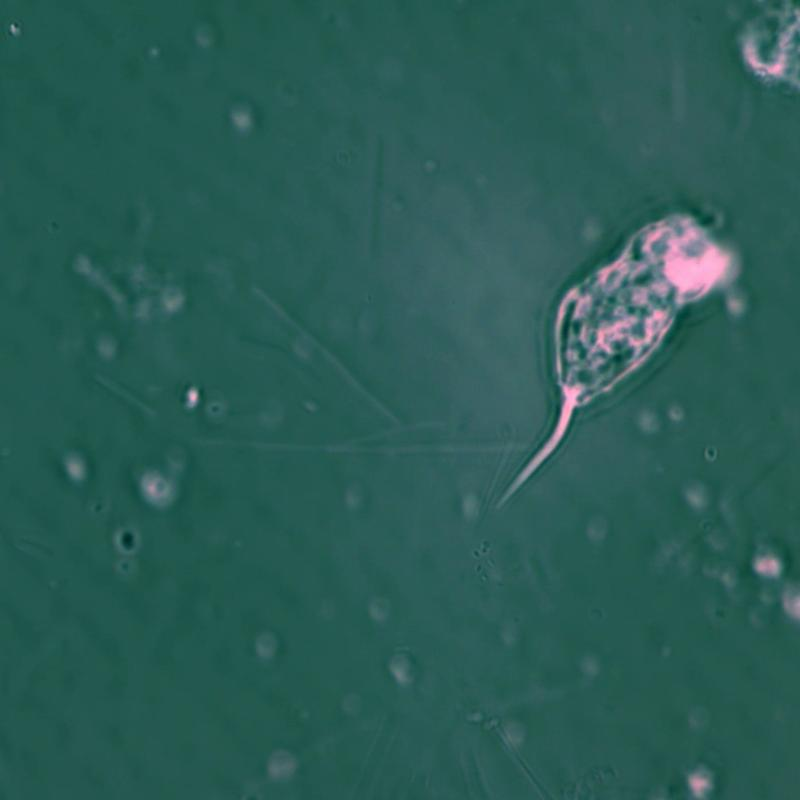depth:0: (499, 158, 762, 519)
